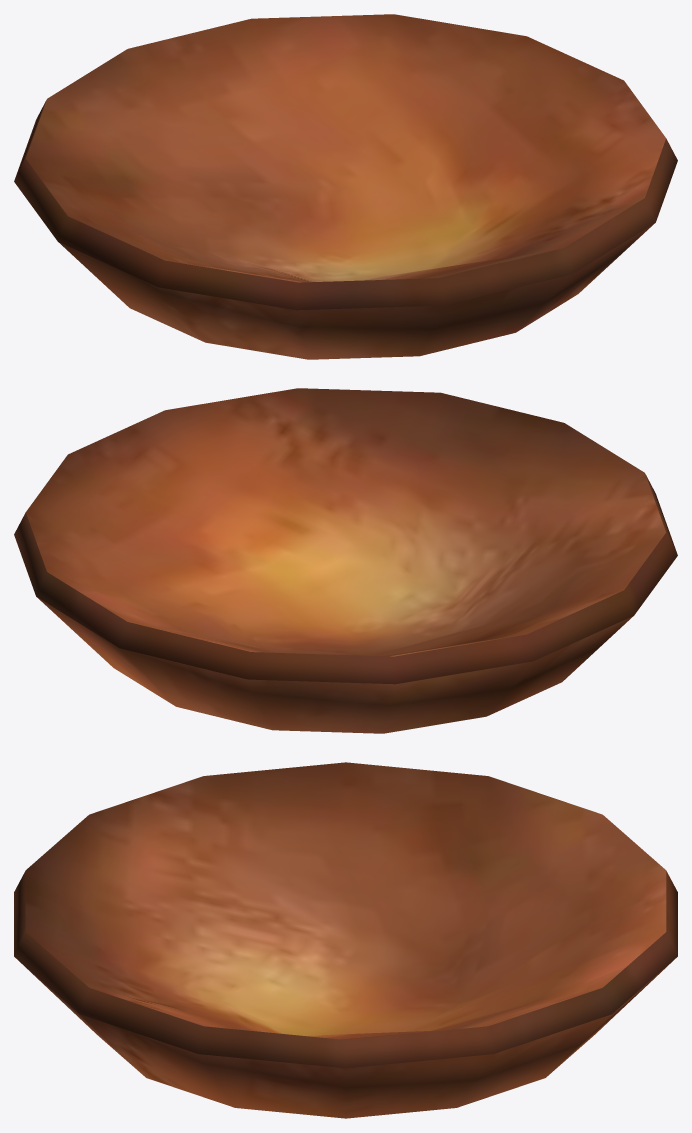
File: KM_VOB_MERCHANT_BOWL_01.glb
The picture shows the model from 3 angles, top to bottom: view 1: azimuth 30°, elevation 25°; view 2: azimuth 150°, elevation 25°; view 3: azimuth 270°, elevation 25°; orthographic projection. The views are drawn at different scales.
Visible parts, largest first — view 1: Mesh; view 2: Mesh; view 3: Mesh.
Boxes of the visible parts, bbox=[...] form: Mesh: bbox=[14, 14, 677, 359]; Mesh: bbox=[14, 388, 677, 733]; Mesh: bbox=[14, 762, 677, 1118].
Bounding box in the file's own units: 0.2931 × 0.0527 × 0.2858.
1 material, 1 textured.
